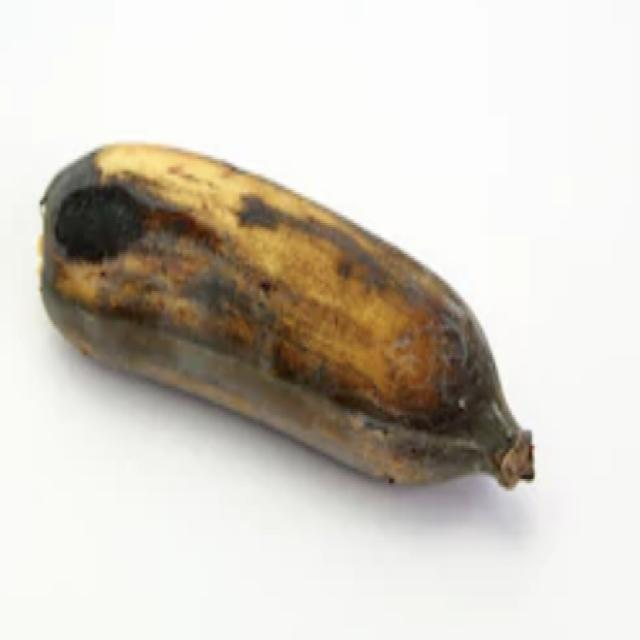rotten-banana: (36, 136, 536, 492)
